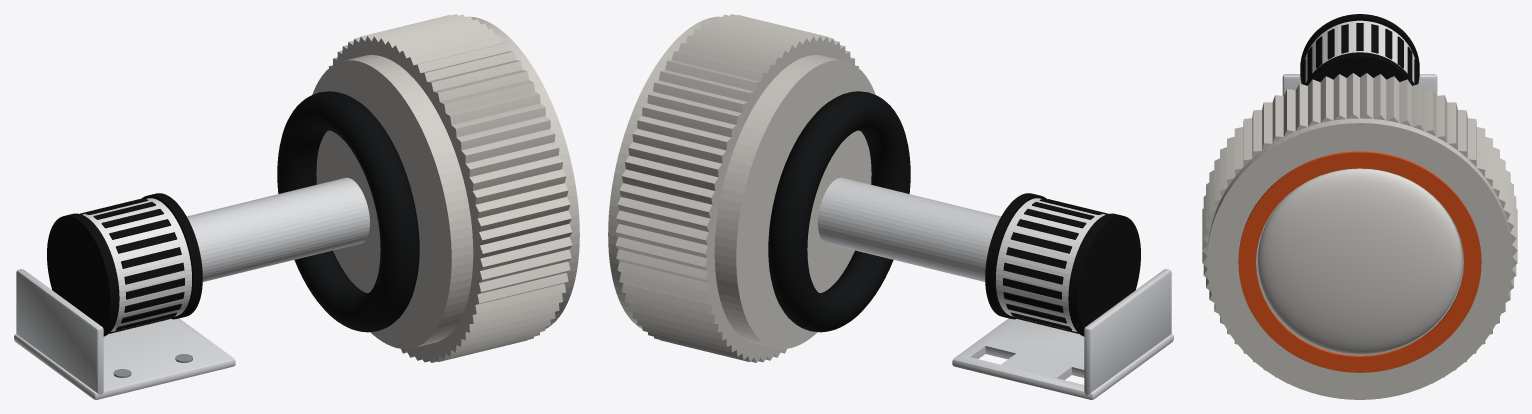
The model's file is part_crown_asm.glb.
3 views of the same model, side by side, from view 1: azimuth 30°, elevation 25°; view 2: azimuth 150°, elevation 25°; view 3: azimuth 270°, elevation 25° (orthographic). The views are drawn at different scales.
Parts seen in each view (by area): view 1: part_crown_asm, crown_encoder, crown_gasket, crown_bracket, crown_stem; view 2: part_crown_asm, crown_encoder, crown_gasket, crown_bracket, crown_stem; view 3: part_crown_asm, crown_encoder, crown_bracket.
Boxes of the visible parts, x1,y1,x2,y2 form: part_crown_asm: (312,14,579,362); crown_encoder: (47,193,202,336); crown_gasket: (277,91,419,332); crown_bracket: (14,269,235,399); crown_stem: (187,177,369,281); part_crown_asm: (608,14,875,362); crown_encoder: (985,193,1140,336); crown_gasket: (768,91,910,332); crown_bracket: (952,269,1173,399); crown_stem: (818,177,1000,281); part_crown_asm: (1202,73,1517,399); crown_encoder: (1300,14,1419,85); crown_bracket: (1282,74,1437,95).
Bounding box in the file's own units: 0.015 × 0.00939 × 0.00939.
